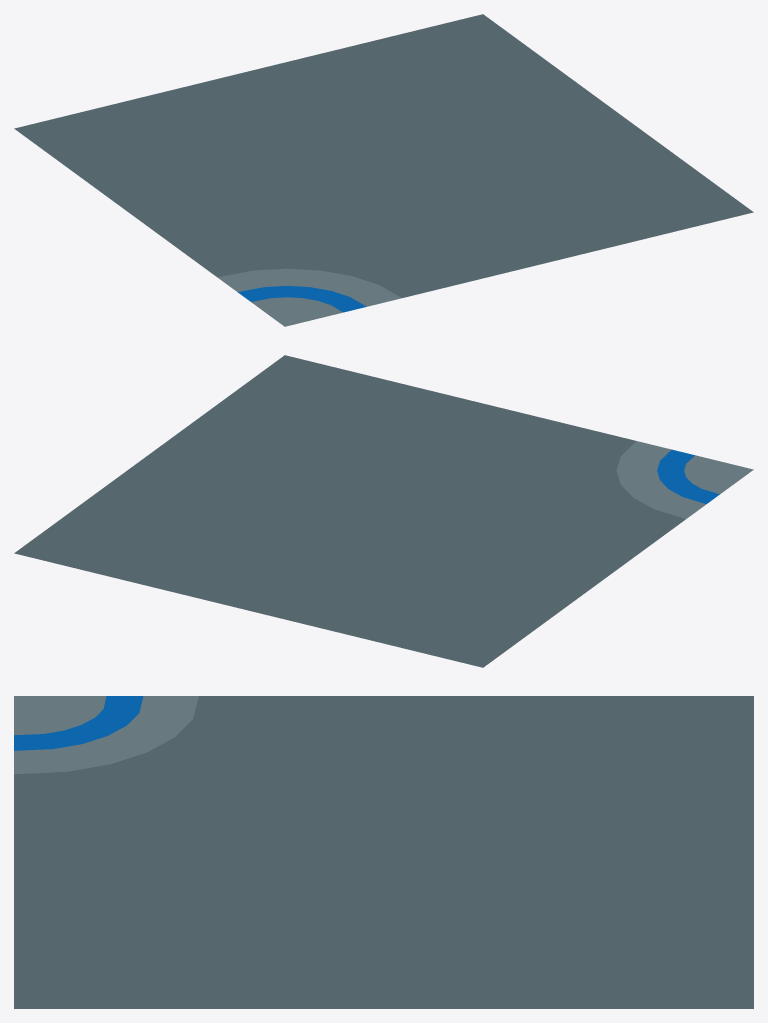
Rendered from Ceiling_type_C_034.fbx.
The picture shows the model from 3 angles, top to bottom: view 1: azimuth 30°, elevation 25°; view 2: azimuth 150°, elevation 25°; view 3: azimuth 270°, elevation 25°; orthographic projection. The views are drawn at different scales.
Visible parts, largest first — view 1: Ceiling_type_C_034; view 2: Ceiling_type_C_034; view 3: Ceiling_type_C_034.
Boxes of the visible parts, x1,y1,x2,y2 form: Ceiling_type_C_034: (14, 14, 753, 326); Ceiling_type_C_034: (14, 355, 753, 667); Ceiling_type_C_034: (14, 696, 753, 1008).
Size of the model in its own units: 400 by 400 by 1.2.
